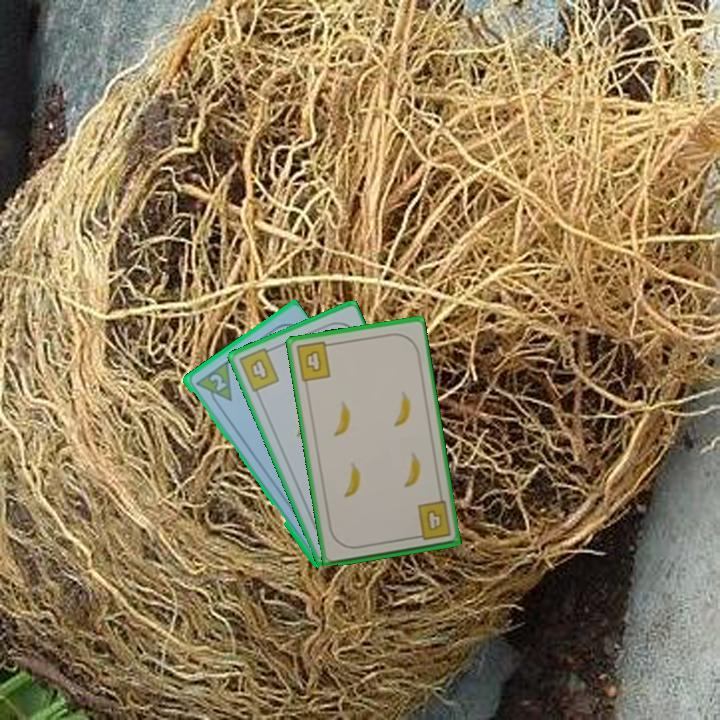2p: (205, 370, 229, 394)
4b: (235, 343, 282, 395), (409, 498, 454, 543), (292, 338, 336, 384)
